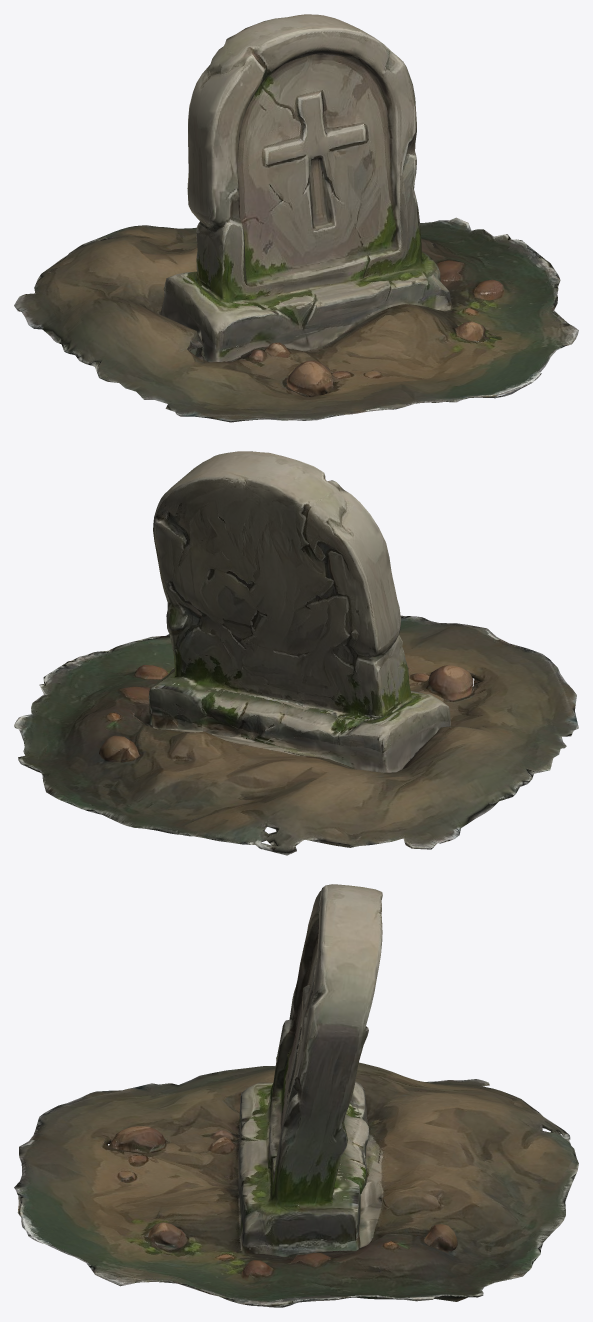
File: varco_tomb.glb
The picture shows the model from 3 angles, top to bottom: view 1: azimuth 30°, elevation 25°; view 2: azimuth 150°, elevation 25°; view 3: azimuth 270°, elevation 25°; orthographic projection. The views are drawn at different scales.
Visible parts, largest first — view 1: texture_mapping; view 2: texture_mapping; view 3: texture_mapping.
Part boxes in pixels (x1,y1,x2,y2): texture_mapping: (14, 14, 578, 422); texture_mapping: (14, 451, 578, 855); texture_mapping: (14, 884, 578, 1307).
Bounding box in the file's own units: 0.9928 × 0.6102 × 0.9977.
1 material, 1 textured.
